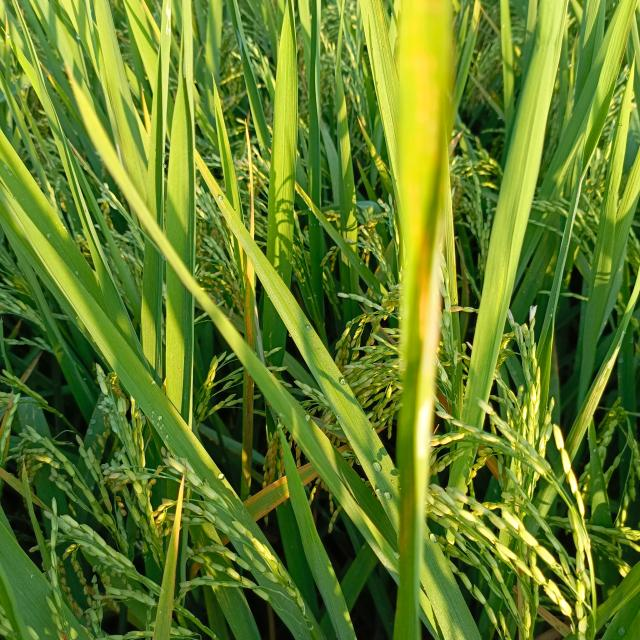Brown spot: (157, 471, 188, 593), (243, 474, 289, 521), (296, 460, 319, 485)
